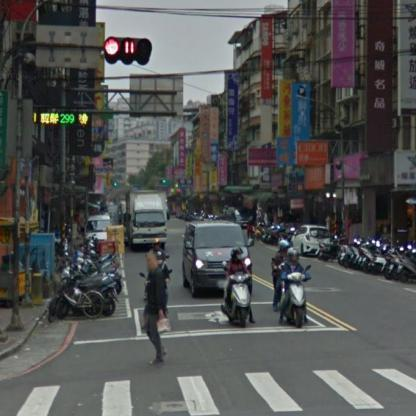Green Light: (156, 176, 168, 186)
Red Light: (104, 36, 152, 64)
